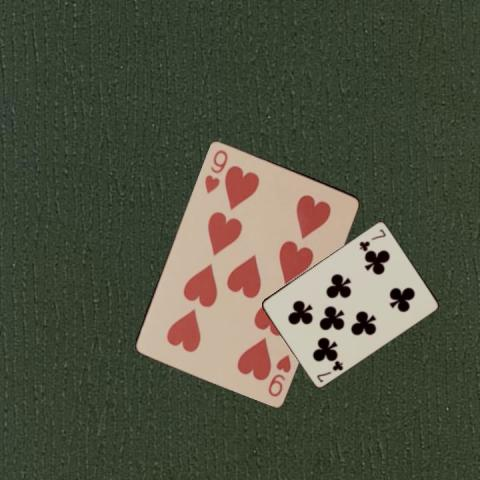7c: (314, 358, 345, 384), (356, 226, 387, 251)
9h: (202, 146, 230, 195), (264, 351, 292, 398)
